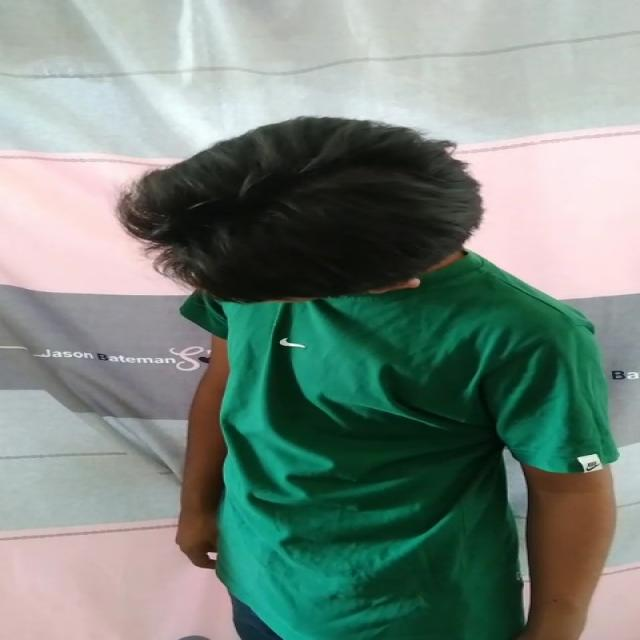9_cabeza_baja: (111, 116, 483, 306)
